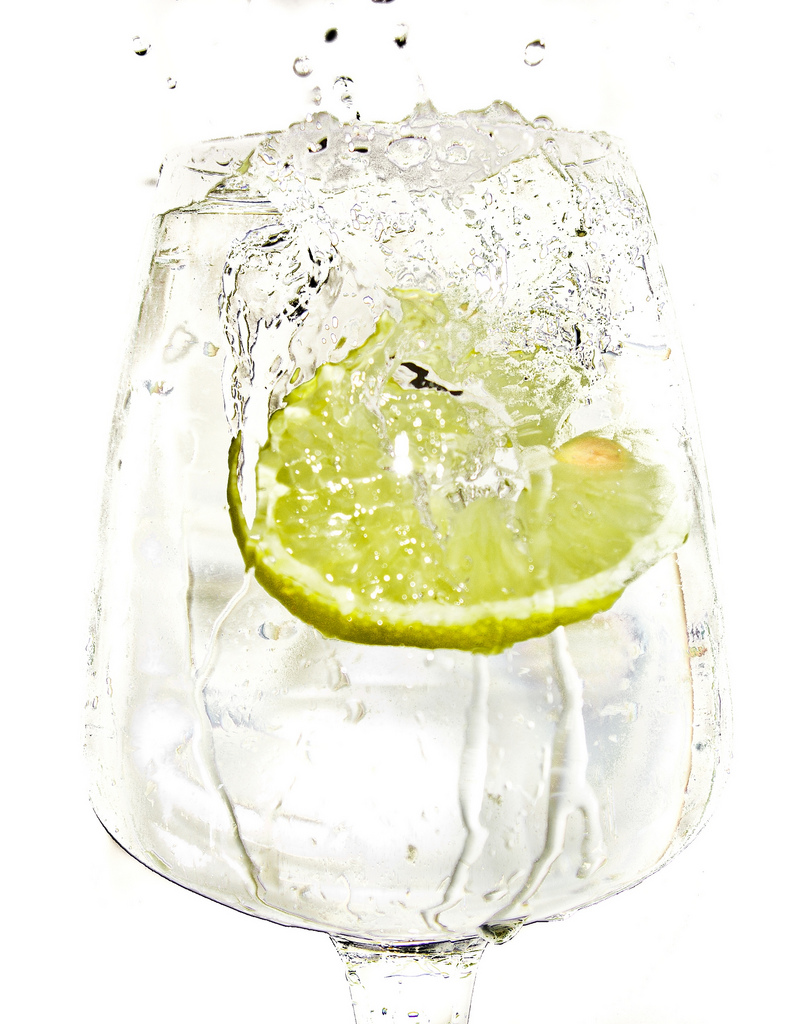glass of water: (83, 141, 741, 1024)
